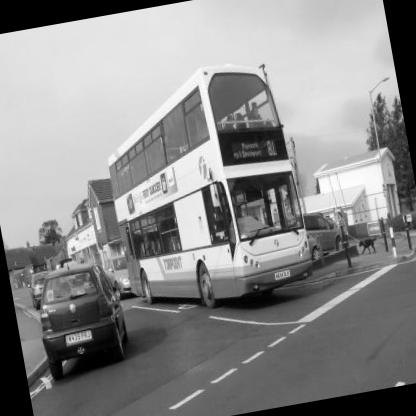bus: (86, 63, 328, 310)
car: (20, 241, 135, 371)
